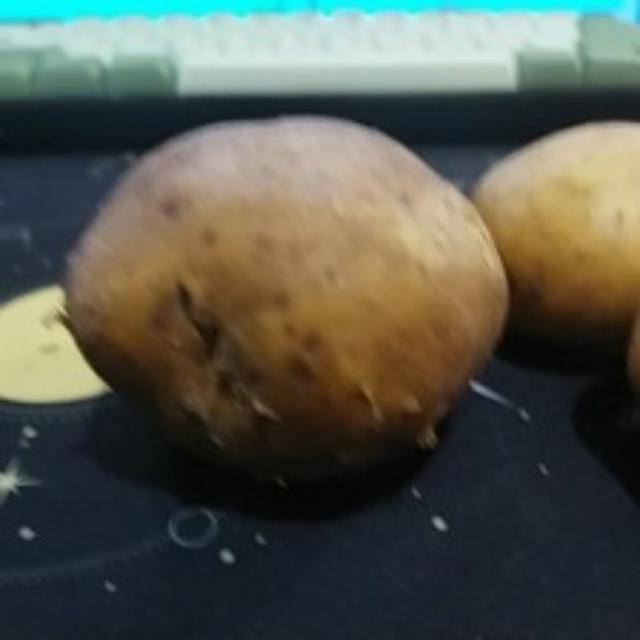Damaged potato: (51, 108, 512, 486)
Potato: (474, 117, 640, 340)
